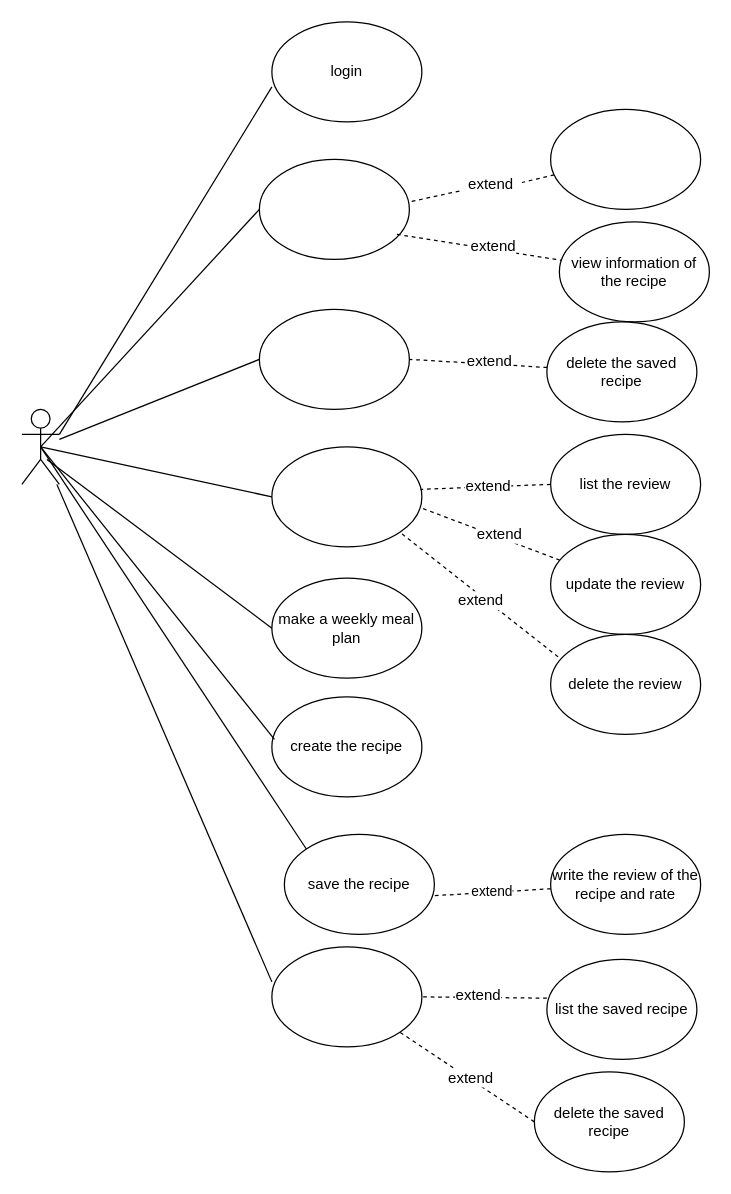
Image size: 731x1194. Some labels were removed from this diagram. Here are the shapes that lost their labels. From the top down, the centre of each, then its label:
(x=625, y=158): view other's review and rate
(x=333, y=208): search the recipe
(x=333, y=358): view the saved recipe
(x=40, y=446): Actor
(x=346, y=496): manage the review
(x=346, y=996): manage the saved recipe
